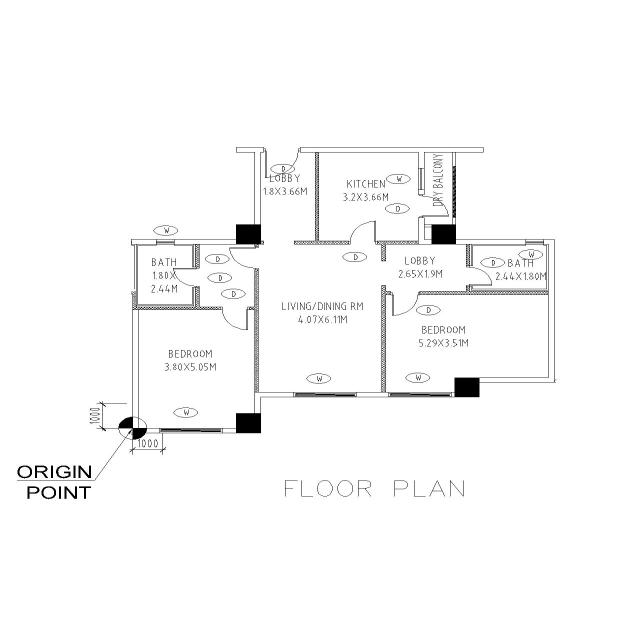Column: (235, 412, 262, 434), (235, 224, 262, 245), (454, 377, 481, 398), (431, 224, 457, 245)
Door: (262, 146, 302, 154), (418, 194, 426, 218), (390, 290, 420, 296), (348, 240, 378, 245), (254, 246, 260, 270), (220, 306, 250, 310), (195, 266, 199, 288), (466, 265, 470, 287)
Ventilator: (155, 238, 175, 246), (525, 238, 545, 246)
Window: (158, 428, 224, 434), (292, 392, 358, 398), (387, 392, 453, 398), (417, 167, 426, 191)
